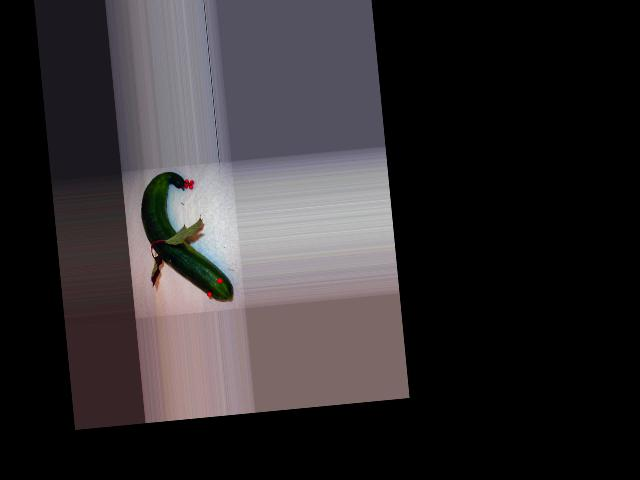cucumber: (137, 166, 234, 307)
